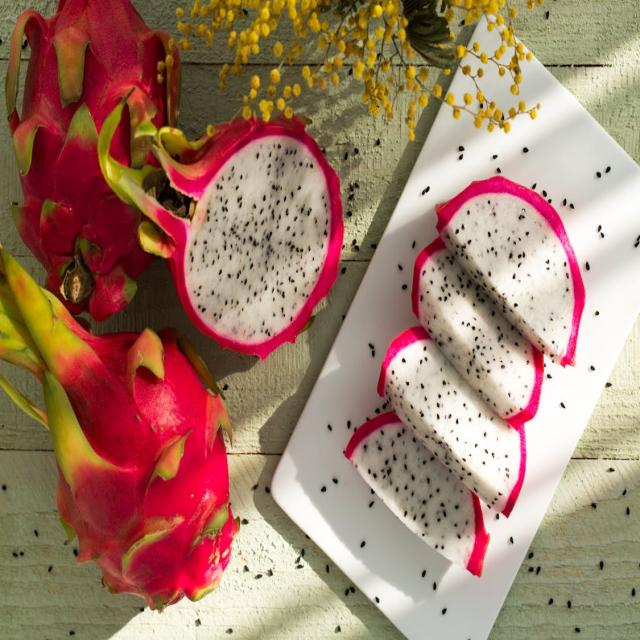thanh long: (377, 327, 526, 517), (437, 176, 585, 364), (412, 236, 542, 421), (344, 411, 489, 575)
